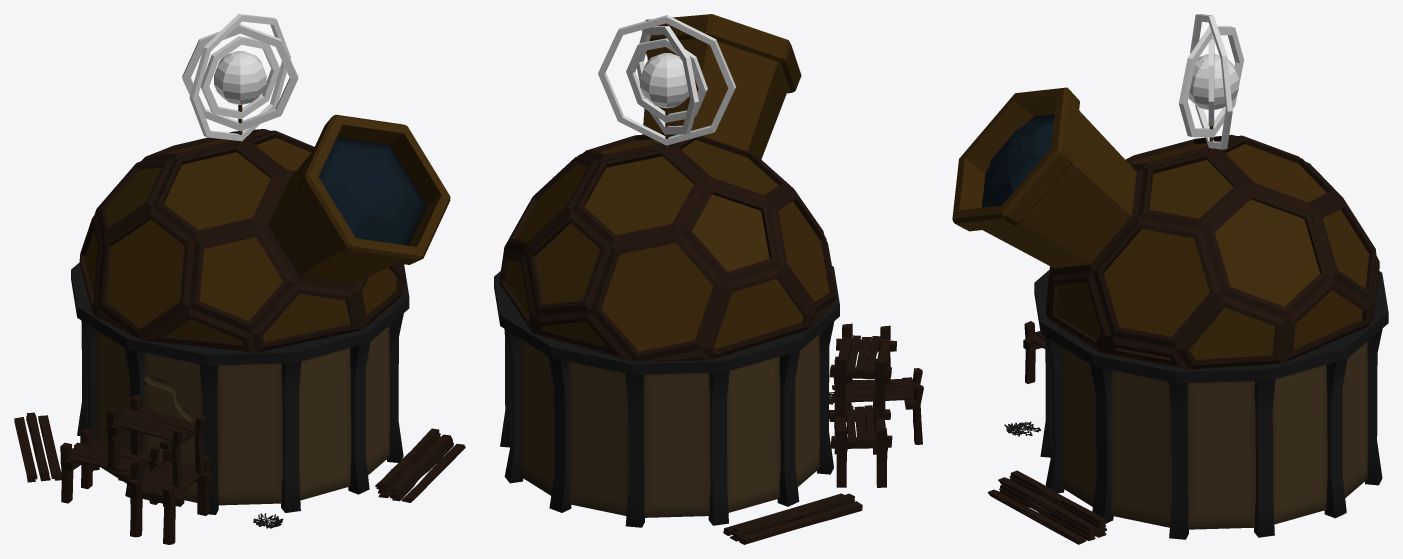
The model's file is Observatory_Patch.fbx.
The picture shows the model from 3 angles, left to right: view 1: azimuth 30°, elevation 25°; view 2: azimuth 150°, elevation 25°; view 3: azimuth 270°, elevation 25°; orthographic projection. The views are drawn at different scales.
Parts seen in each view (by area): view 1: Observatory, polySurface10, polySurface9, polySurface13, polySurface8; view 2: Observatory, polySurface9, polySurface13, polySurface8, polySurface10; view 3: Observatory, polySurface10, polySurface9, polySurface13, polySurface8.
Boxes of the visible parts, x1,y1,x2,y2 form: Observatory: (14, 105, 465, 544); polySurface10: (182, 24, 298, 131); polySurface9: (189, 14, 290, 141); polySurface13: (214, 51, 266, 104); polySurface8: (200, 36, 280, 119); Observatory: (494, 14, 923, 544); polySurface9: (598, 15, 735, 145); polySurface13: (640, 53, 689, 108); polySurface8: (626, 38, 707, 122); polySurface10: (637, 26, 698, 134); Observatory: (952, 87, 1388, 544); polySurface10: (1178, 26, 1243, 137); polySurface9: (1190, 14, 1232, 149); polySurface13: (1188, 54, 1238, 109); polySurface8: (1208, 37, 1214, 125).
Bounding box in the file's own units: 261 × 296 × 259.
